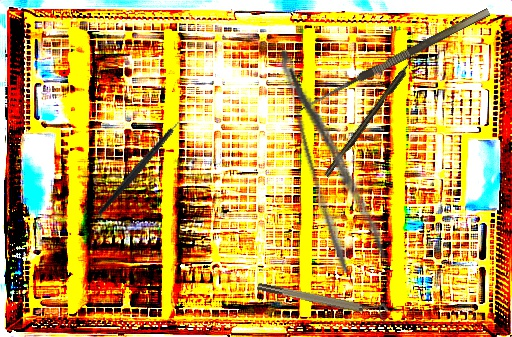Chopper: (72, 106, 209, 218)
Dressing Forceps: (273, 35, 389, 275)
Fixation Ring: (256, 274, 390, 323)
Hook Surgical: (298, 7, 496, 123), (322, 52, 421, 178)
